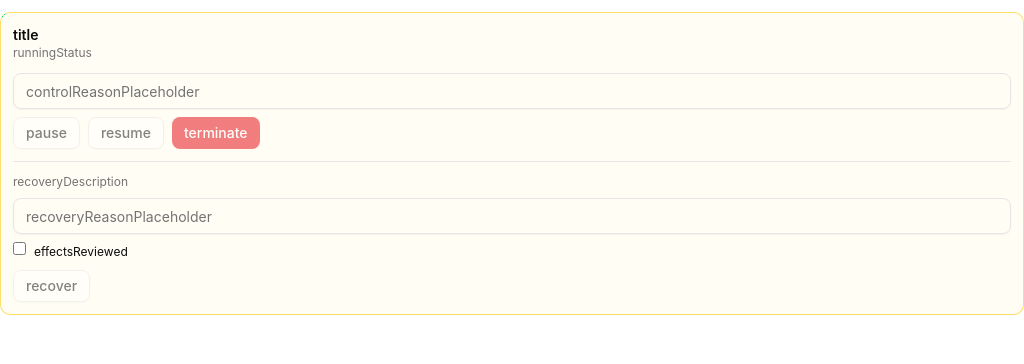
Scenario: ExecutionControlsPanel › only offers controls for running process adapters and submits requested-state actions
Type "operator review" into the field labelled "controlReason" at {"x": 512, "y": 91}, box 13,73 -> 1011,109
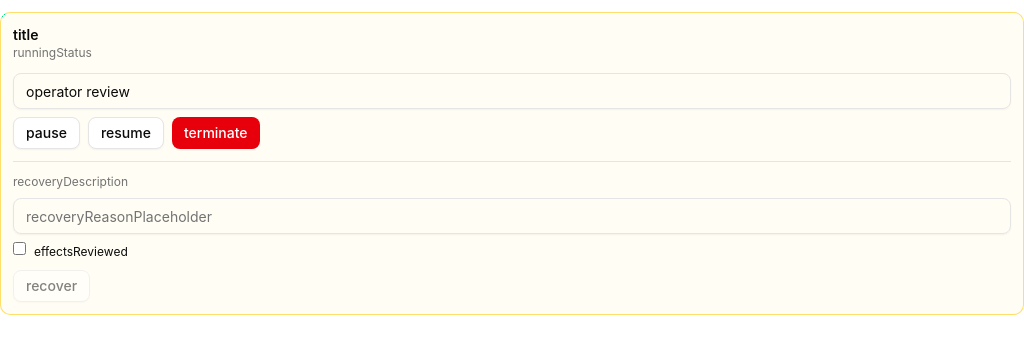
Click the button "pause" at {"x": 46, "y": 133}, box 13,117 -> 80,149
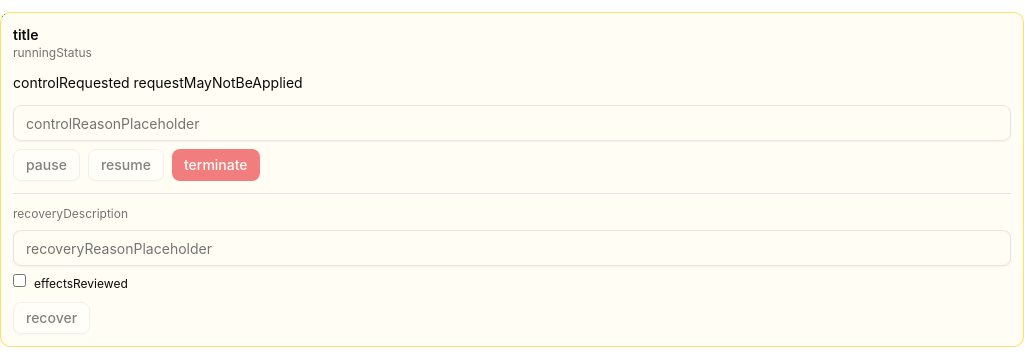
Check: the text "controlRequested requestMayNotBeApplied" is shown, box 13,74 -> 303,91
